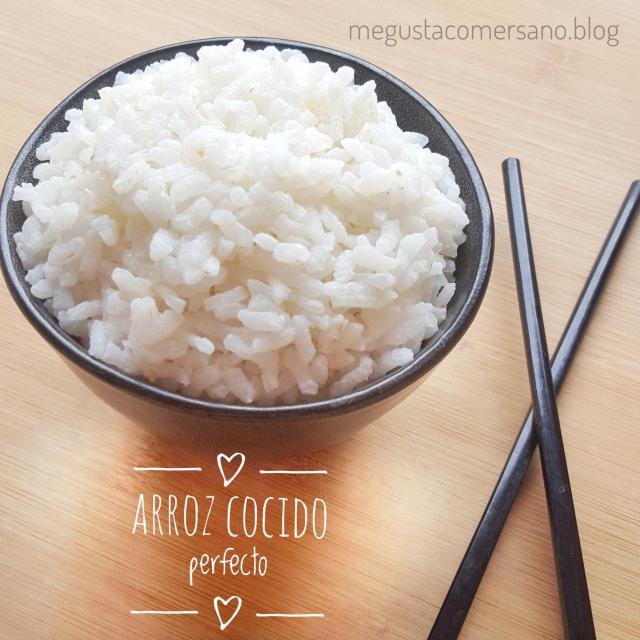arroz: (9, 42, 474, 412)
